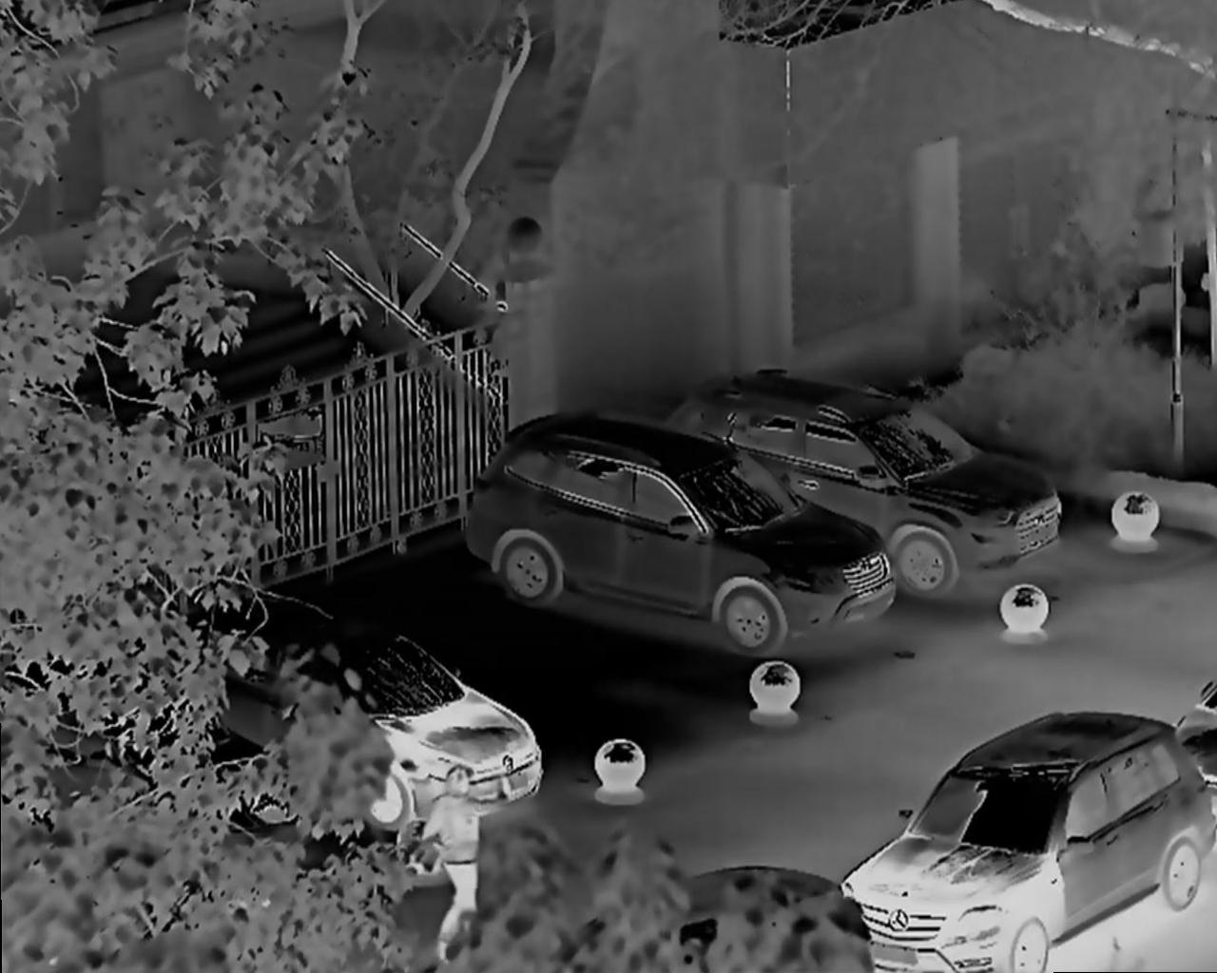person: (426, 755, 501, 940)
